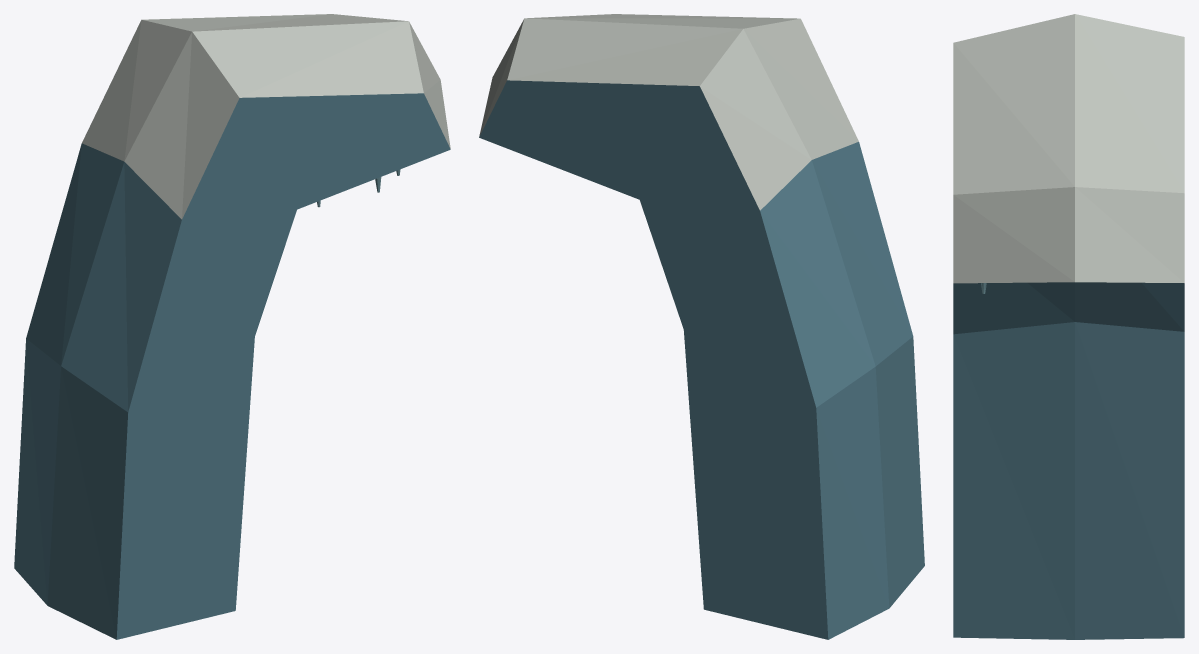
The model's file is Environment_Landmark_IceBeak_001.glb.
3 views of the same model, side by side, from view 1: azimuth 30°, elevation 25°; view 2: azimuth 150°, elevation 25°; view 3: azimuth 270°, elevation 25° (orthographic). The views are drawn at different scales.
Visible parts, largest first — view 1: Environment_Landmark_IceBeak_001; view 2: Environment_Landmark_IceBeak_001; view 3: Environment_Landmark_IceBeak_001.
Part boxes in pixels (x1,y1,x2,y2): Environment_Landmark_IceBeak_001: [14, 14, 450, 639]; Environment_Landmark_IceBeak_001: [479, 14, 924, 639]; Environment_Landmark_IceBeak_001: [953, 14, 1184, 639].
Bounding box in the file's own units: 8.7 × 11.4 × 3.8.
